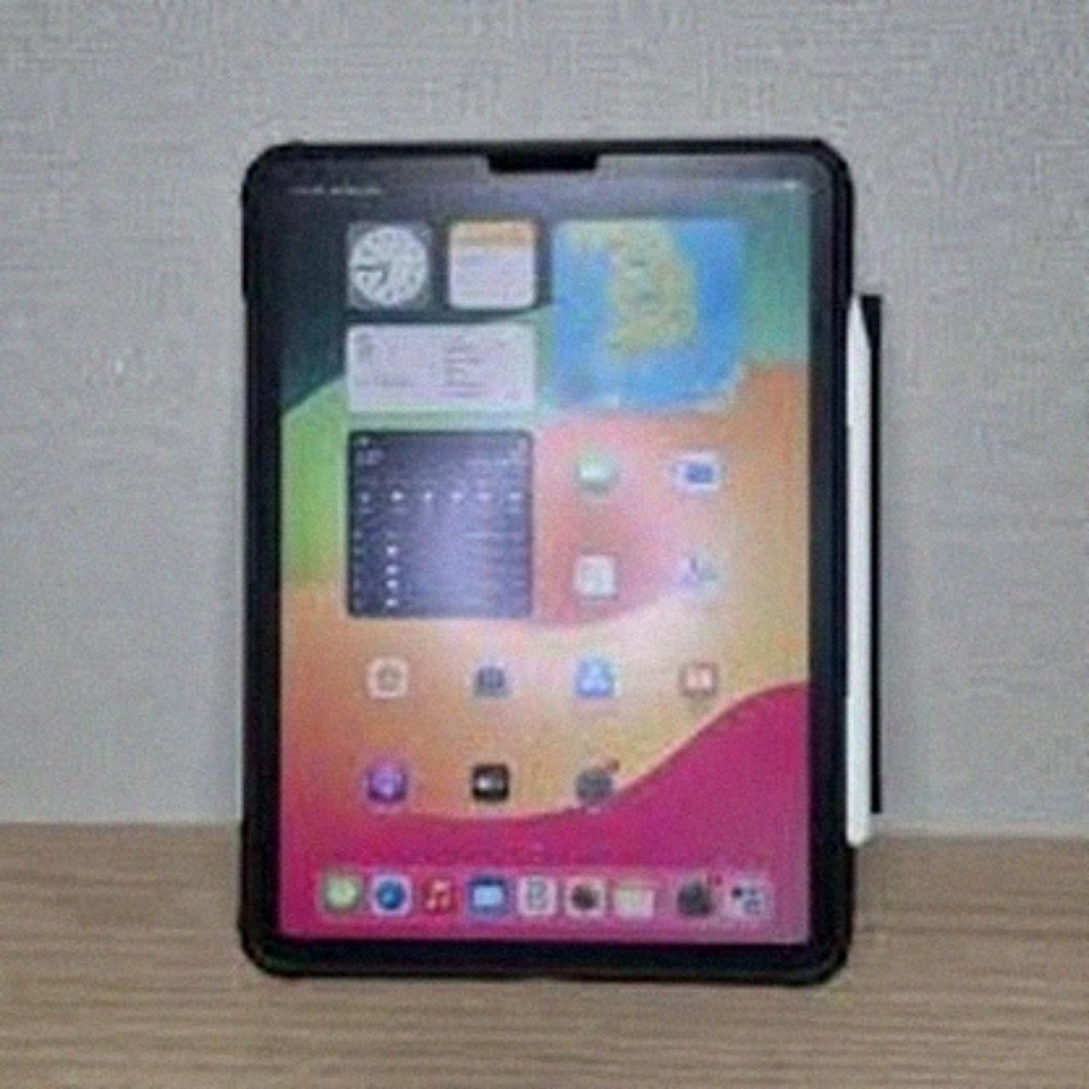Tablet_PC: (228, 131, 905, 995)
